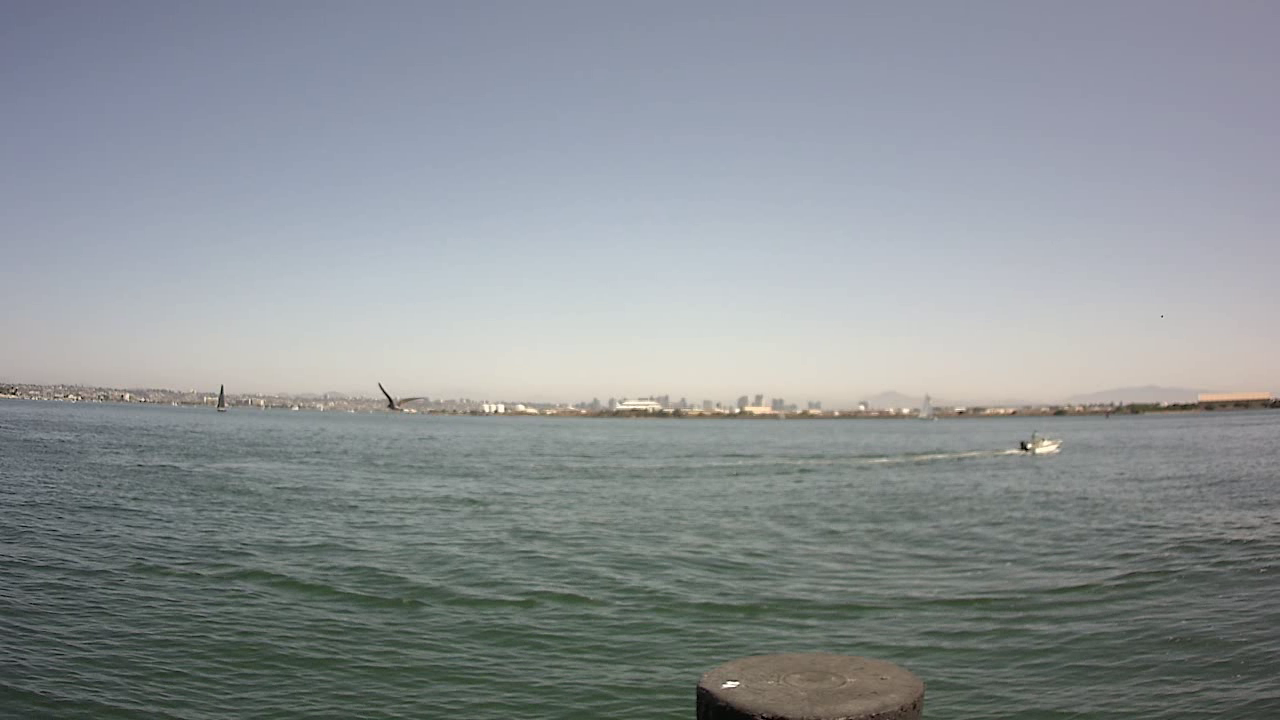target: (1012, 423, 1076, 462)
